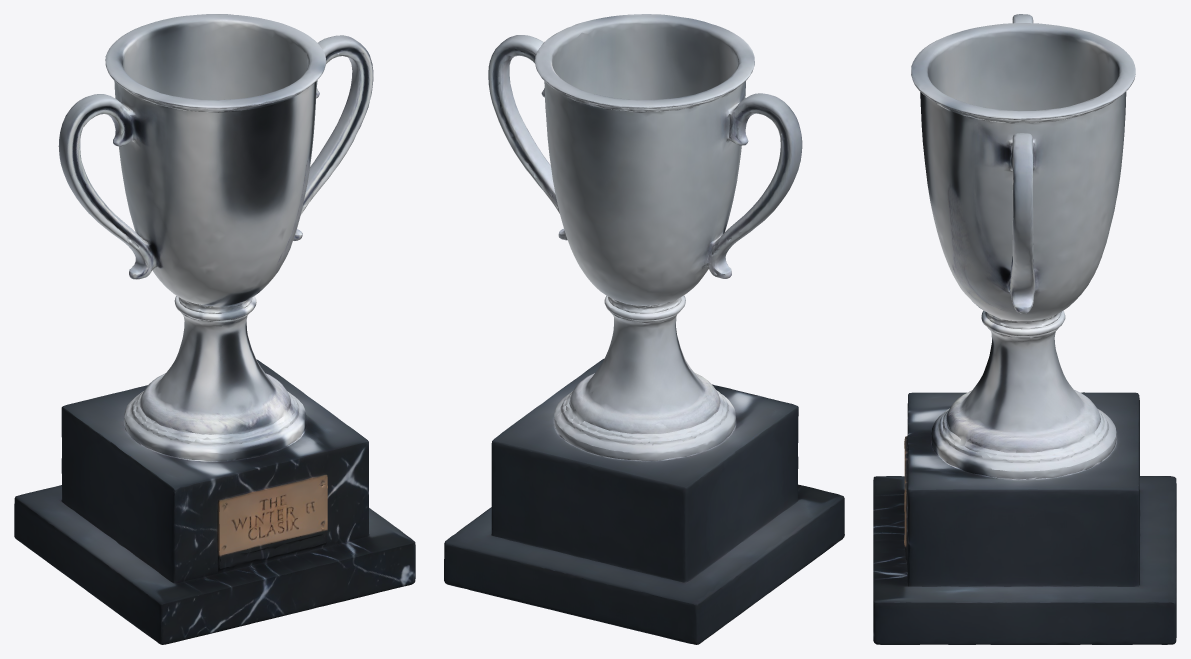
File: cup_rodin.glb
The picture shows the model from 3 angles, left to right: view 1: azimuth 30°, elevation 25°; view 2: azimuth 150°, elevation 25°; view 3: azimuth 270°, elevation 25°; orthographic projection. The views are drawn at different scales.
Parts seen in each view (by area): view 1: Mesh; view 2: Mesh; view 3: Mesh.
Part boxes in pixels (box(x1,y1,x2,y2)): Mesh: box(14, 14, 415, 644); Mesh: box(444, 14, 844, 644); Mesh: box(873, 14, 1176, 644).
Size of the model in its own units: 1.22 by 1.91 by 1.02.
Materials: 1 (1 with a texture image).
